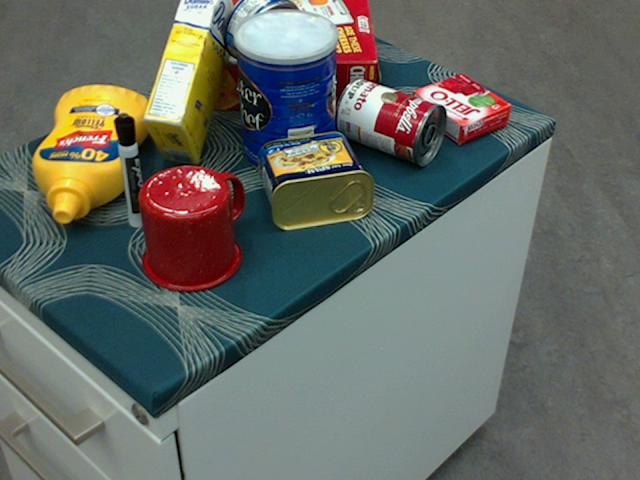cracker_box: (184, 0, 376, 110)
gelatin_box: (410, 74, 510, 143)
large_marker: (112, 113, 148, 226)
master_chef_can: (233, 8, 338, 177)
mug: (139, 163, 245, 291)
mustard_bottle: (31, 85, 149, 222)
potted_meat_can: (256, 129, 374, 231)
sugar_box: (143, 0, 238, 165)
tomato_soup_can: (335, 77, 447, 165)
tuna_fish_can: (222, 0, 302, 70)
